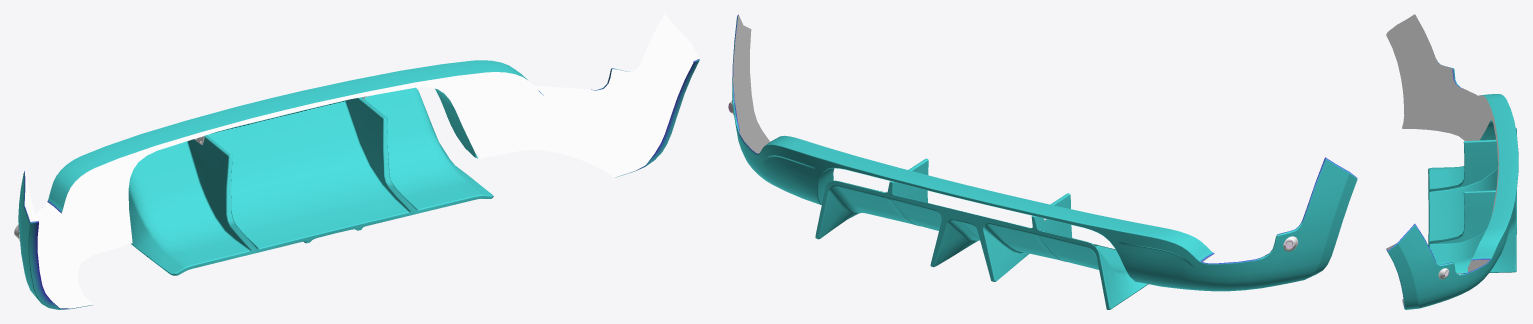
Rendered from Car_Mini_CountrymanJCW_2017_Diffuser_SetB_AltA.fbx.
3 renders of one model, left to right at view 1: azimuth 30°, elevation 25°; view 2: azimuth 150°, elevation 25°; view 3: azimuth 270°, elevation 25°, orthographic. The views are drawn at different scales.
Visible parts, largest first — view 1: Diffuser 6; view 2: Diffuser 6; view 3: Diffuser 6.
Part boxes in pixels (<box>): Diffuser 6: <box>14,14,699,309</box>; Diffuser 6: <box>728,14,1357,309</box>; Diffuser 6: <box>1386,14,1518,309</box>.
Bounding box in the file's own units: 1.74 × 0.3812 × 0.4437.
